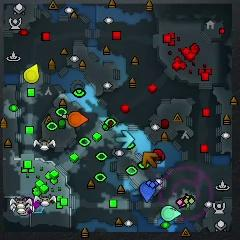p1: (139, 182, 155, 202)
p2: (161, 206, 181, 221)
p3: (26, 197, 40, 212)
p4: (24, 64, 39, 83)
p5: (67, 112, 88, 127)
x3: (115, 130, 134, 148)
x5: (142, 152, 158, 168)
